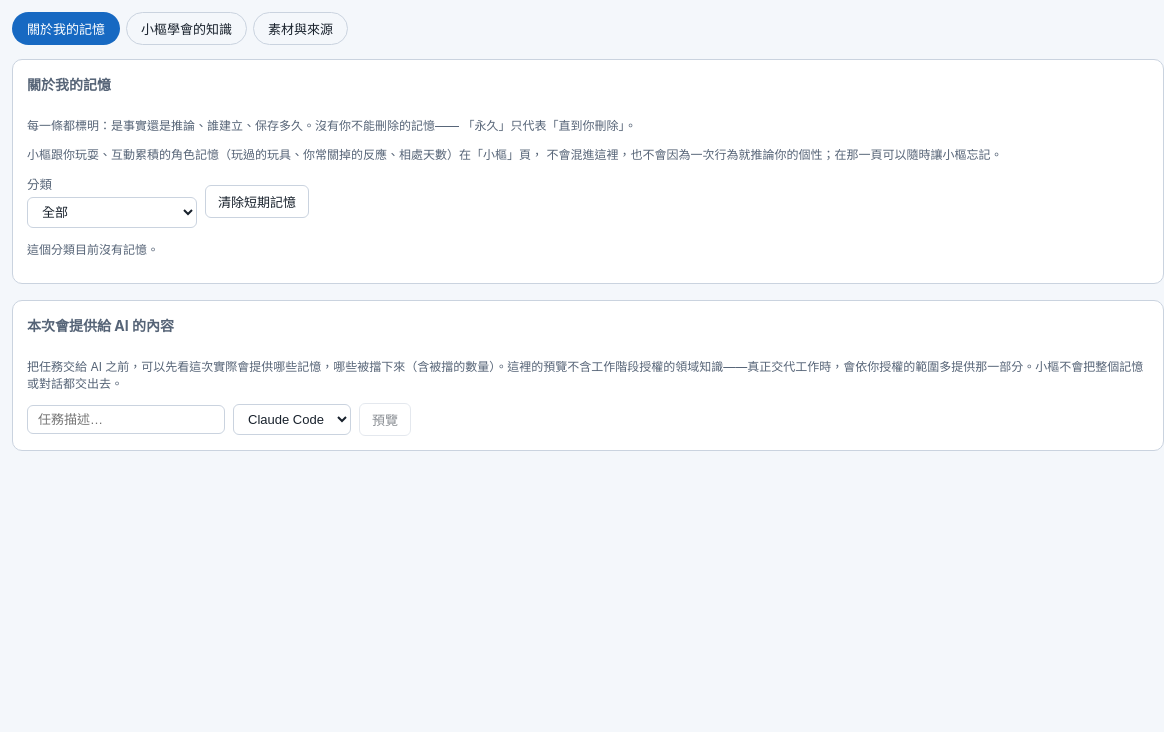
Scenario: memory-ui-002：一般模式的「開啟來源」不得外洩 sha256／「內容定址」技術文案 › 一般模式：點開「開啟來源」不得出現「內容定址」或原始 hash 前綴
Click the tab "素材與來源".
click(300, 28)  # box [253, 12, 348, 45]
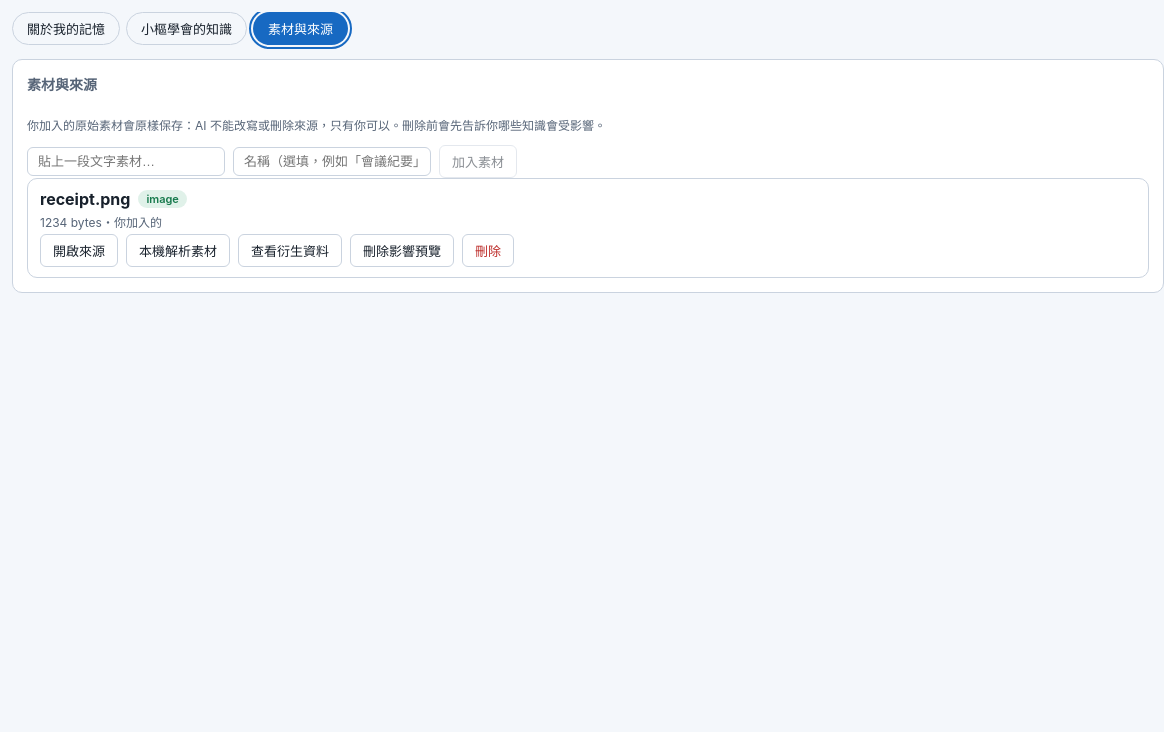
Now the text "receipt.png" is shown, box [40, 189, 130, 209]
Click the button "開啟來源".
click(79, 250)  # box [40, 234, 118, 267]
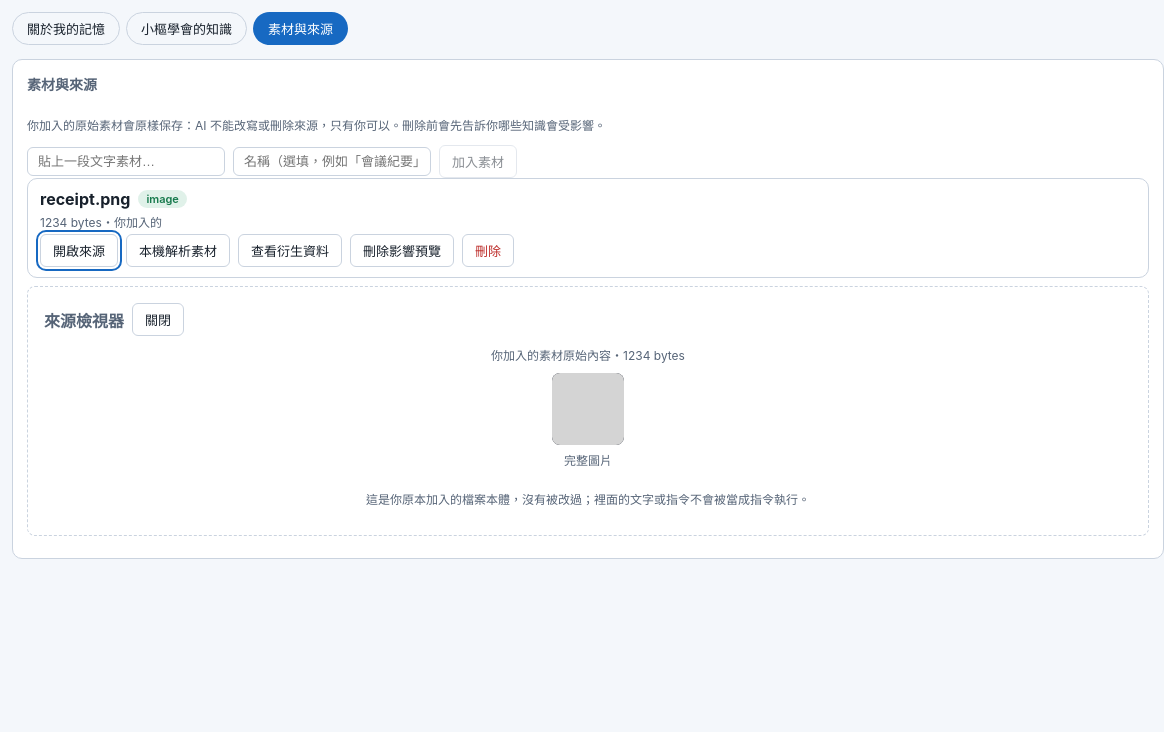
Now the element with test id "source-media-viewer" is shown, box [27, 286, 1149, 536]
